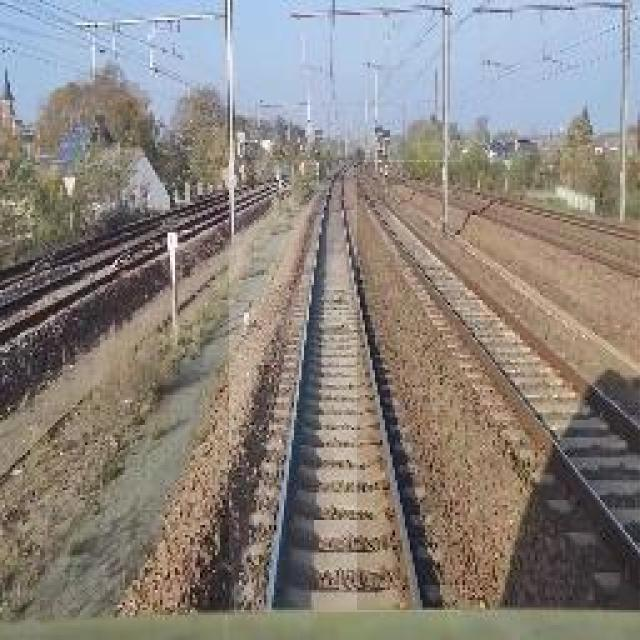rail: (358, 164, 640, 611), (230, 161, 462, 613)
